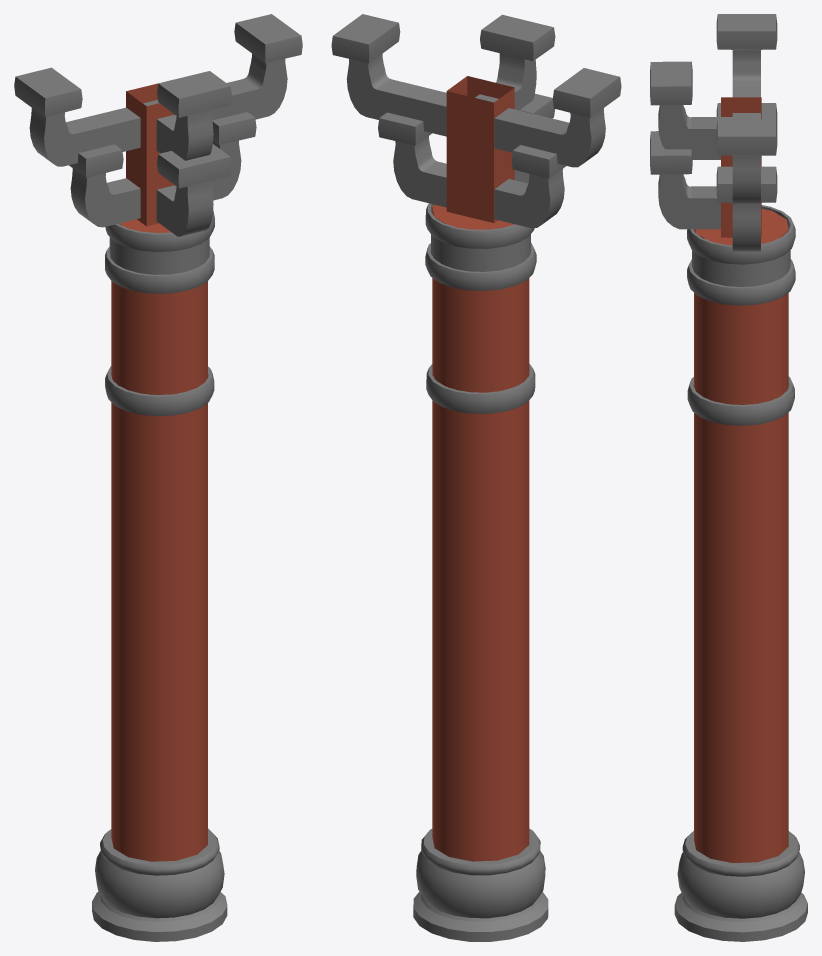
The model's file is SM_pillar_architecture.fbx.
3 renders of one model, left to right at view 1: azimuth 30°, elevation 25°; view 2: azimuth 150°, elevation 25°; view 3: azimuth 270°, elevation 25°, orthographic. The views are drawn at different scales.
Visible parts, largest first — view 1: Object32471; view 2: Object32471; view 3: Object32471.
Boxes of the visible parts, x1,y1,x2,y2 form: Object32471: (14, 14, 302, 941); Object32471: (331, 14, 621, 941); Object32471: (650, 14, 807, 941).
Size of the model in its own units: 61.25 by 194 by 33.1.
